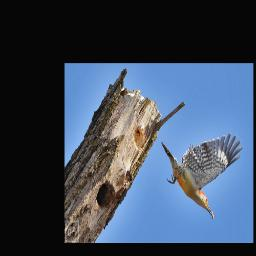Woodpecker: (160, 132, 244, 220)
